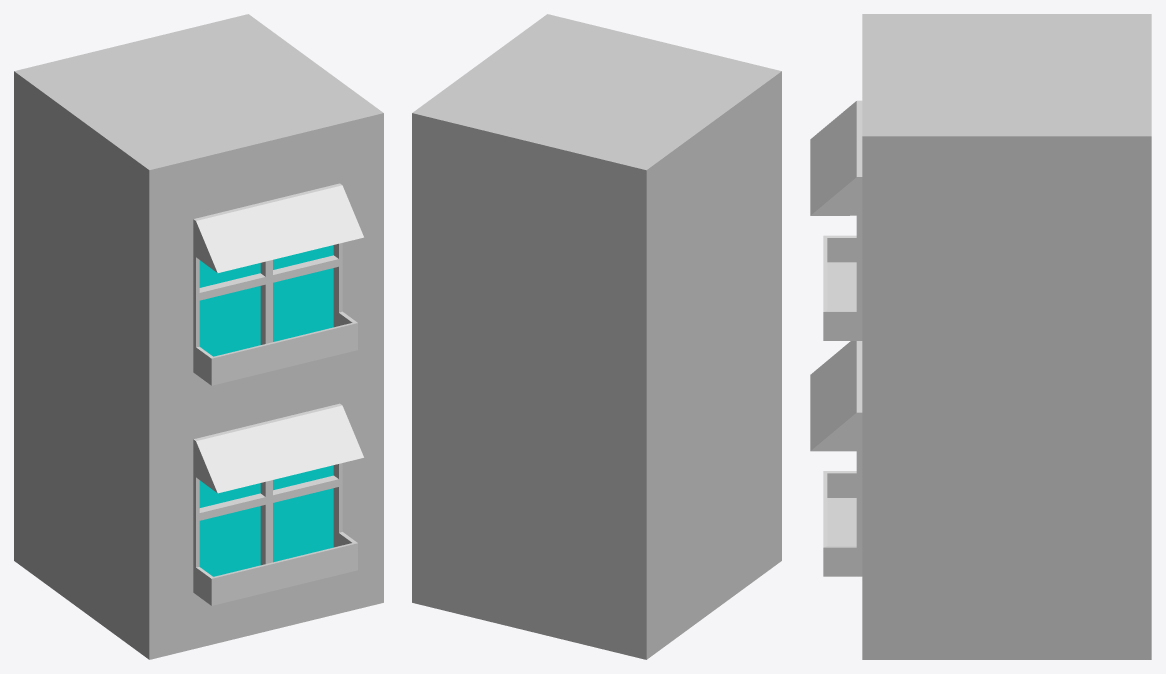
File: BuildingM3.fbx
3 renders of one model, left to right at view 1: azimuth 30°, elevation 25°; view 2: azimuth 150°, elevation 25°; view 3: azimuth 270°, elevation 25°, orthographic. The views are drawn at different scales.
Visible parts, largest first — view 1: M3; view 2: M3; view 3: M3.
Part boxes in pixels (x1,y1,x2,y2): M3: (14,14,383,659); M3: (412,14,781,659); M3: (810,14,1151,659).
Bounding box in the file's own units: 643 × 1283 × 759.
